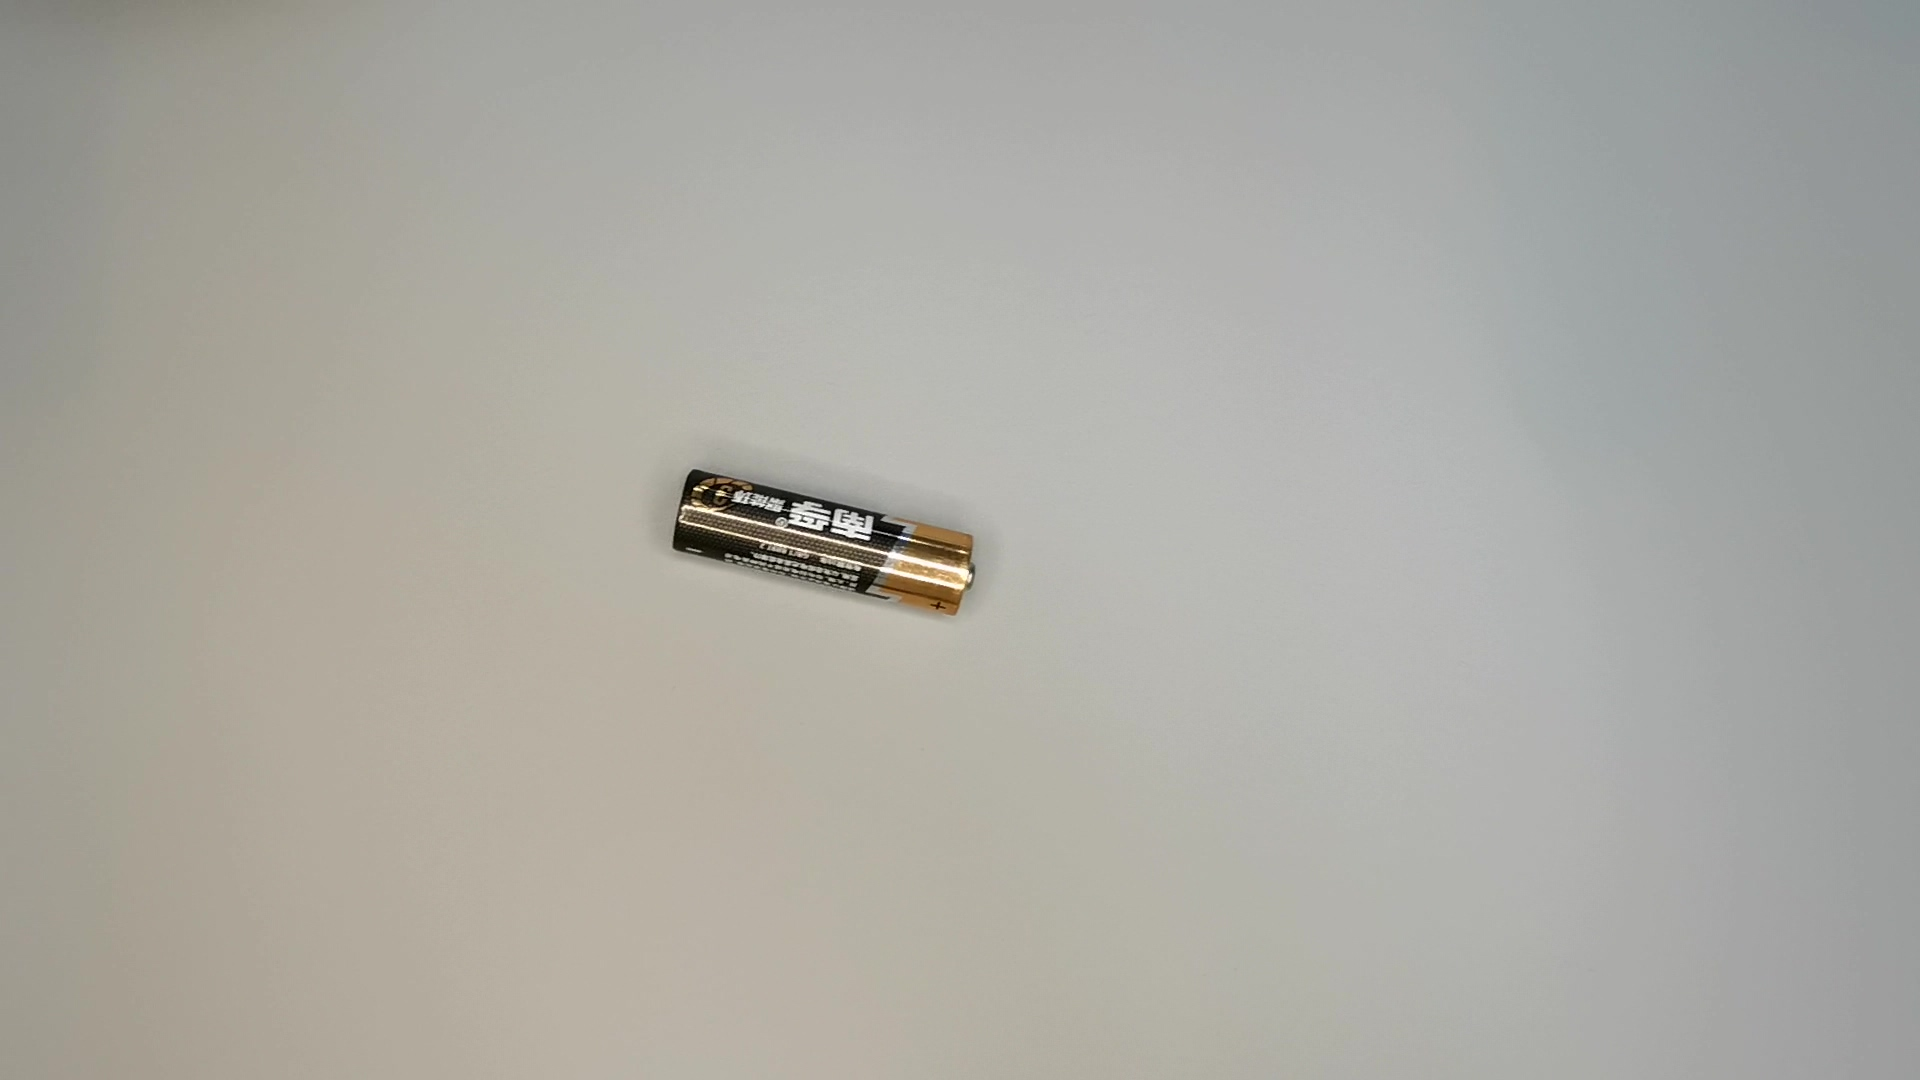battery: (659, 465, 984, 624)
